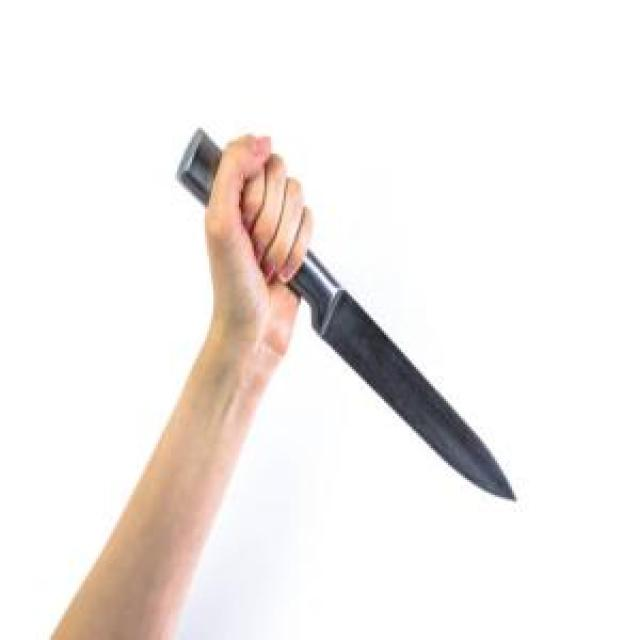knife: (173, 121, 519, 508)
